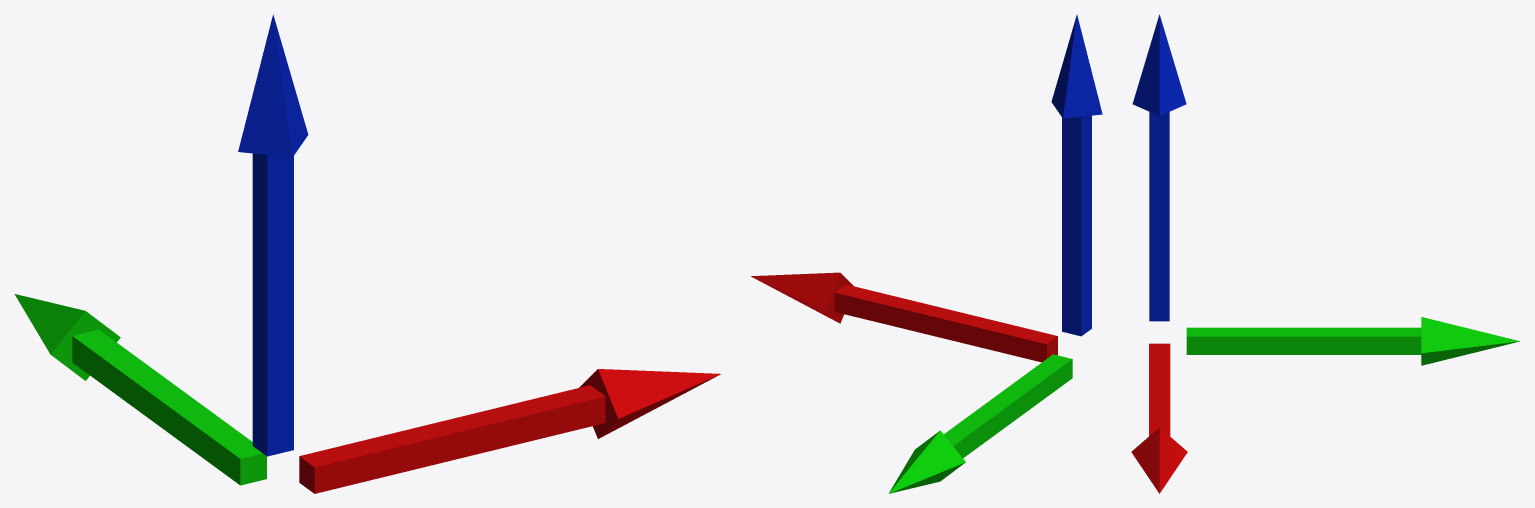
Rendered from VectorXYZ.obj.
The picture shows the model from 3 angles, left to right: view 1: azimuth 30°, elevation 25°; view 2: azimuth 150°, elevation 25°; view 3: azimuth 270°, elevation 25°; orthographic projection. The views are drawn at different scales.
Parts seen in each view (by area): view 1: Cone.003; view 2: Cone.003; view 3: Cone.003.
Boxes of the visible parts, x1,y1,x2,y2 form: Cone.003: (14,14,720,493); Cone.003: (751,14,1102,493); Cone.003: (1131,14,1519,493).
Bounding box in the file's own units: 0.7823 × 0.7798 × 0.7823.
